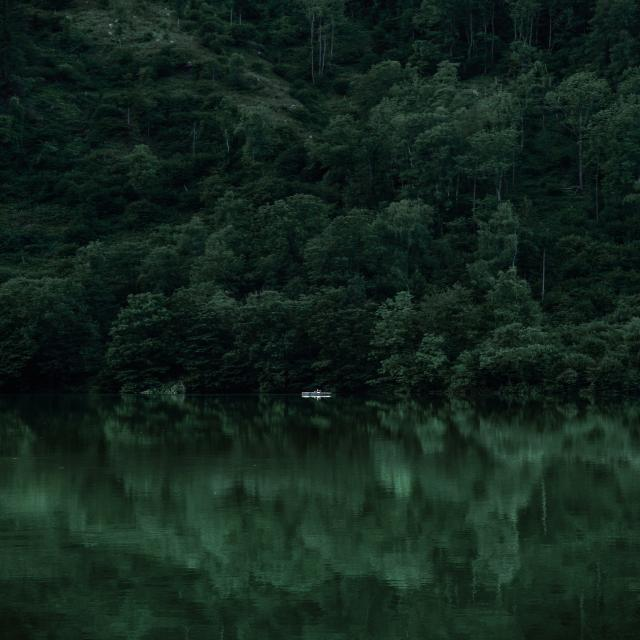Forest: (7, 55, 640, 640)
